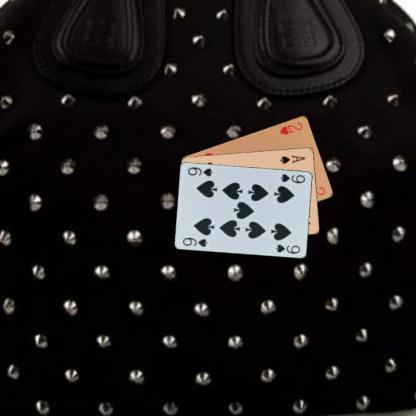2h: (277, 120, 304, 136)
9s: (180, 234, 209, 248), (278, 171, 306, 184)
As: (277, 152, 307, 165)
